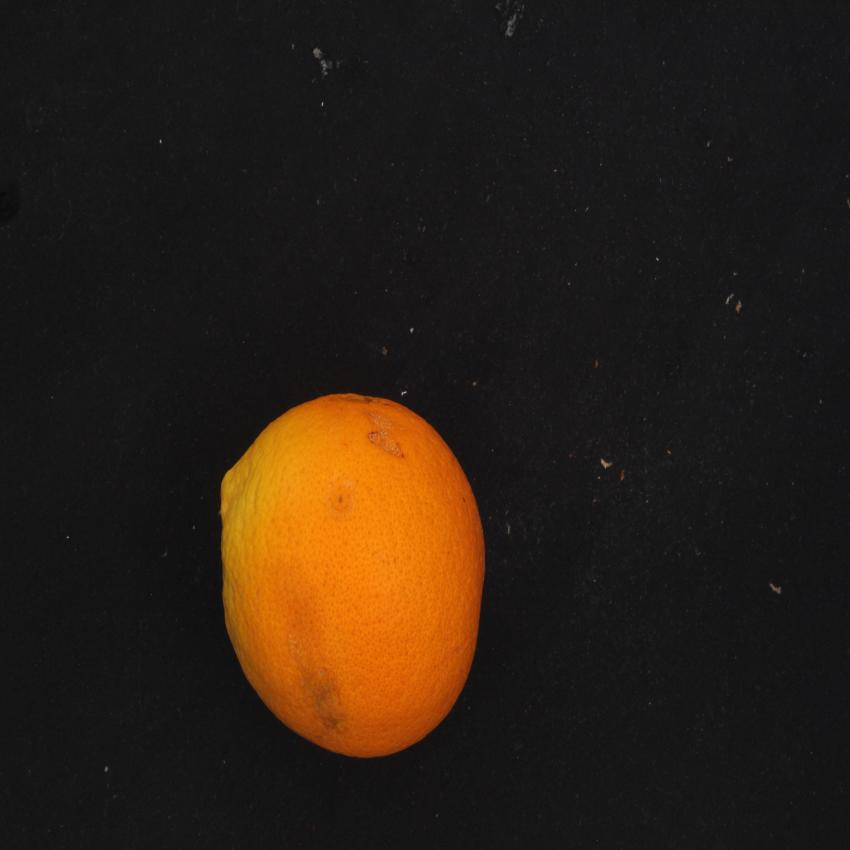Mal estado: (211, 375, 497, 776)
